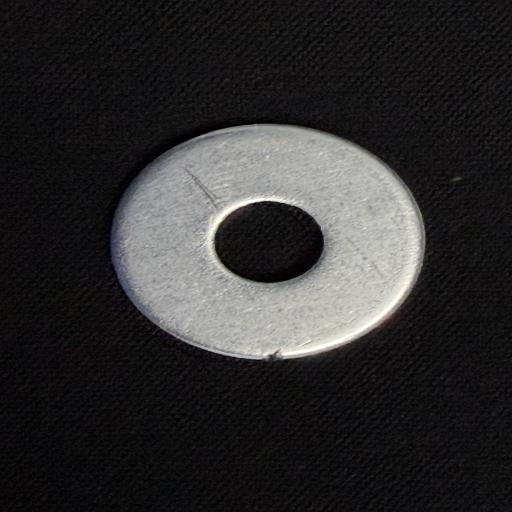Scratch: (174, 166, 224, 214)
chip off: (255, 344, 299, 372)
